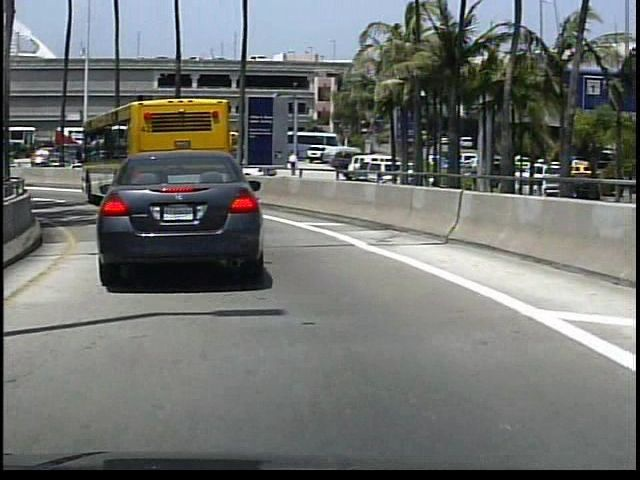person: (284, 149, 298, 177)
